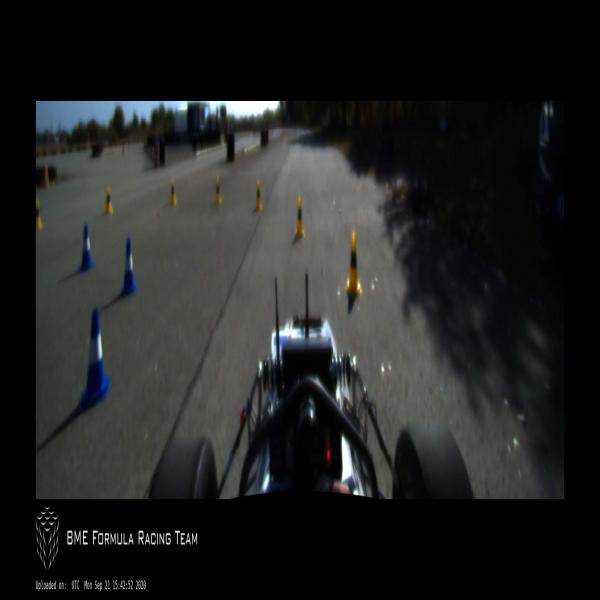blue_cone: (79, 307, 110, 411), (120, 238, 137, 296), (78, 225, 94, 271)
yellow_cone: (346, 233, 362, 296), (295, 196, 305, 238), (104, 186, 113, 215), (254, 180, 262, 212), (36, 199, 42, 229), (170, 178, 176, 206), (215, 177, 221, 204)
